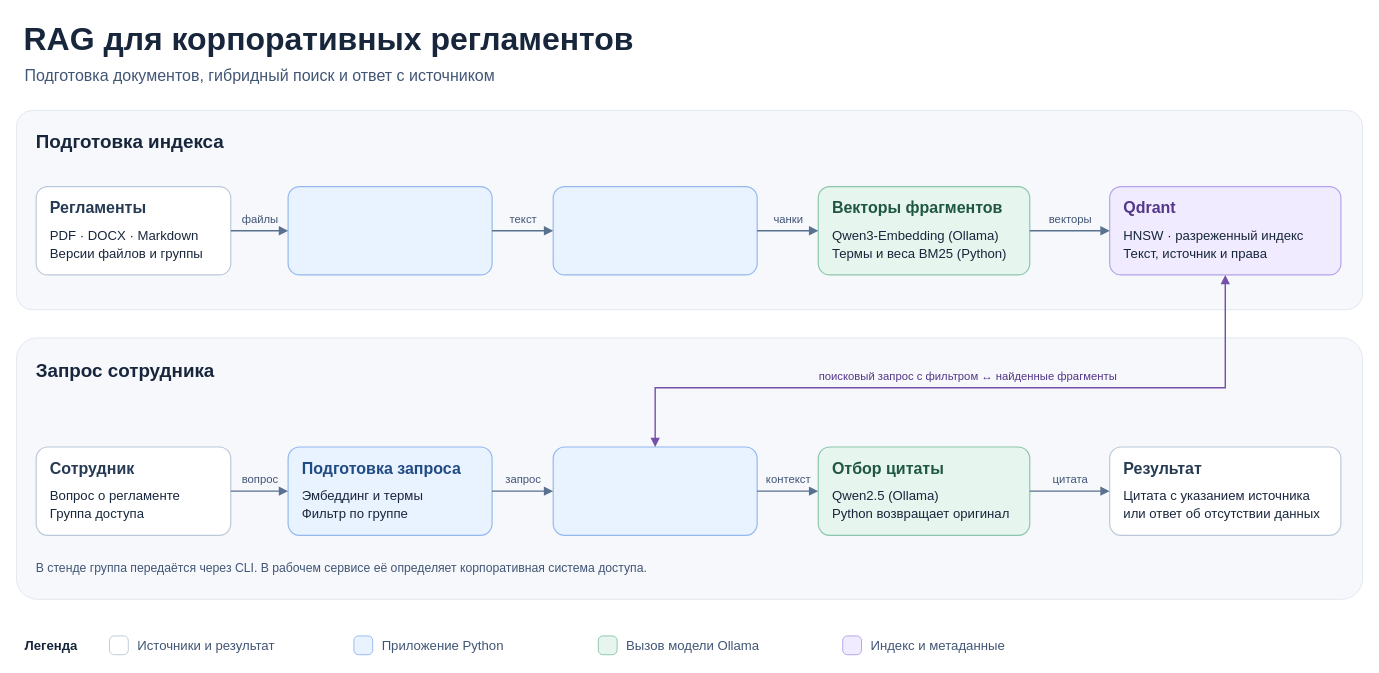
Some shapes in this 1379 by 673 pixel diagram are drawn without their labels. Each missing label, with the centre of its shape:
Гибридный поиск Cosine + BM25 → RRF До 5 доступных фрагментов: (654,491)
Извлечение текста Парсеры форматов SHA-256 и группа доступа: (389,230)
Разбиение текста Разделы / страницы Текст и координаты цитаты: (654,230)
